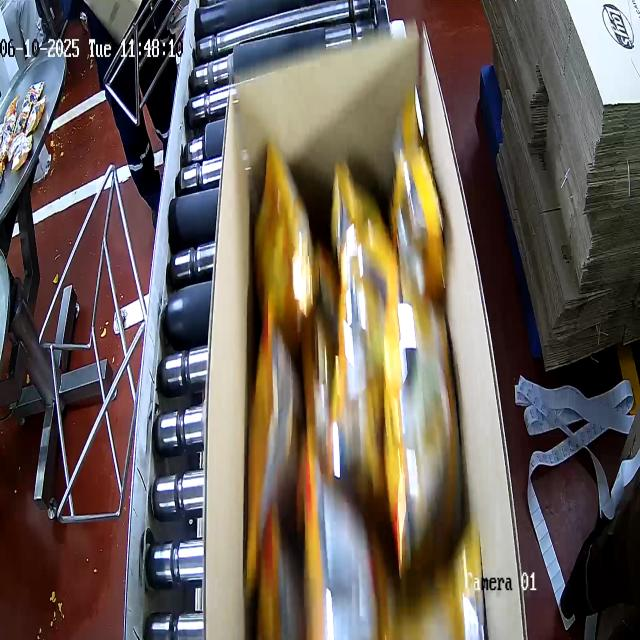FRENCH_CHEESE: (243, 135, 444, 637)
